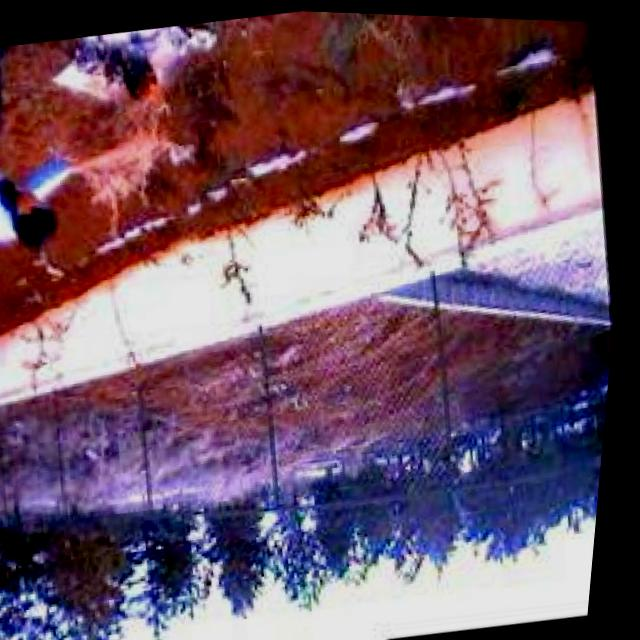Fire: (111, 49, 183, 120)
